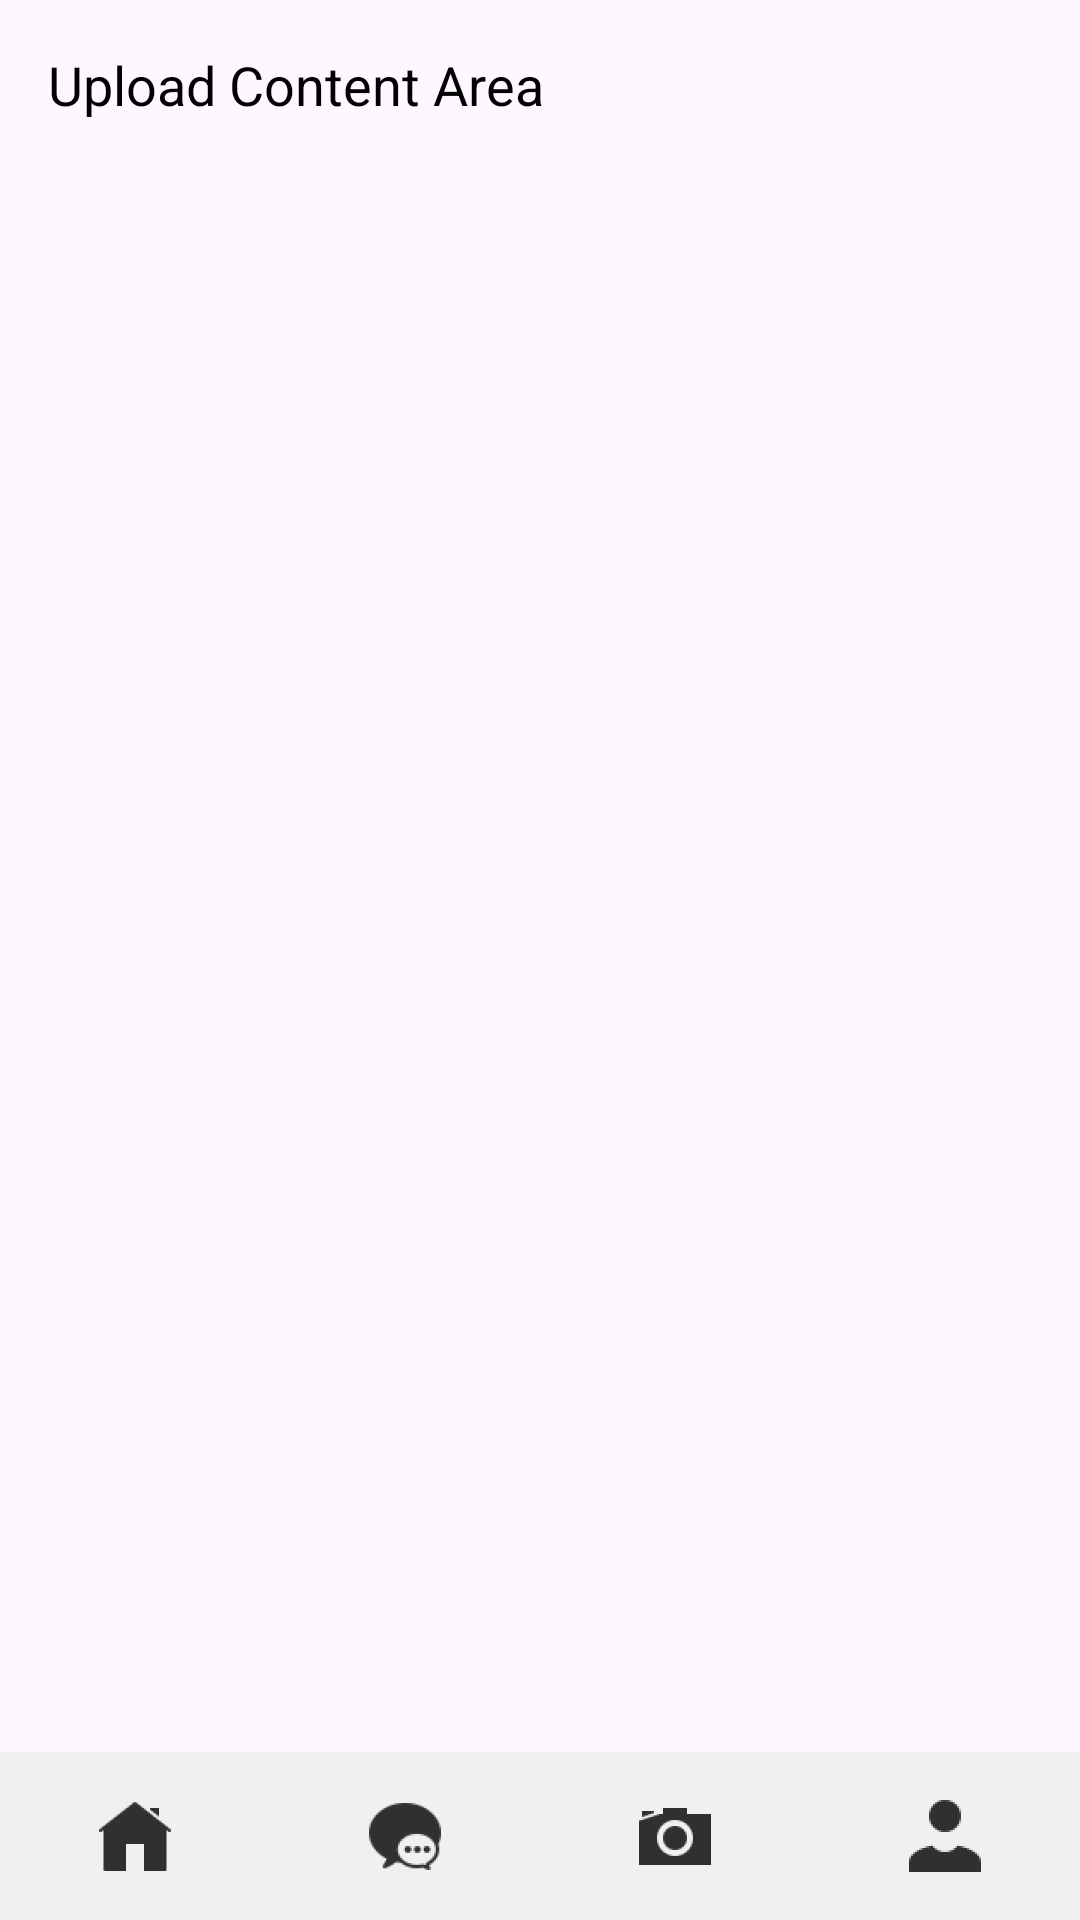

Named icons in this screenshot (1080x1920) and their centers, [x,y]:
Home: [135,1836]
Messages: [405,1836]
Profile: [945,1836]
Upload: [675,1836]
